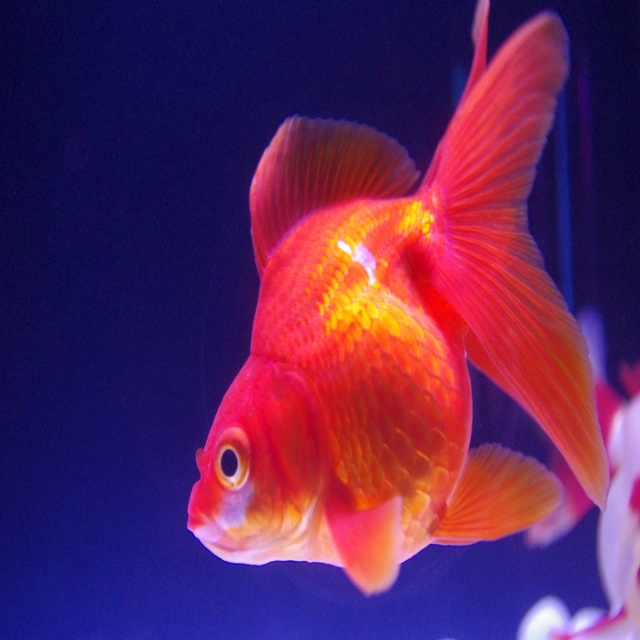Goldfish: (184, 8, 604, 591)
